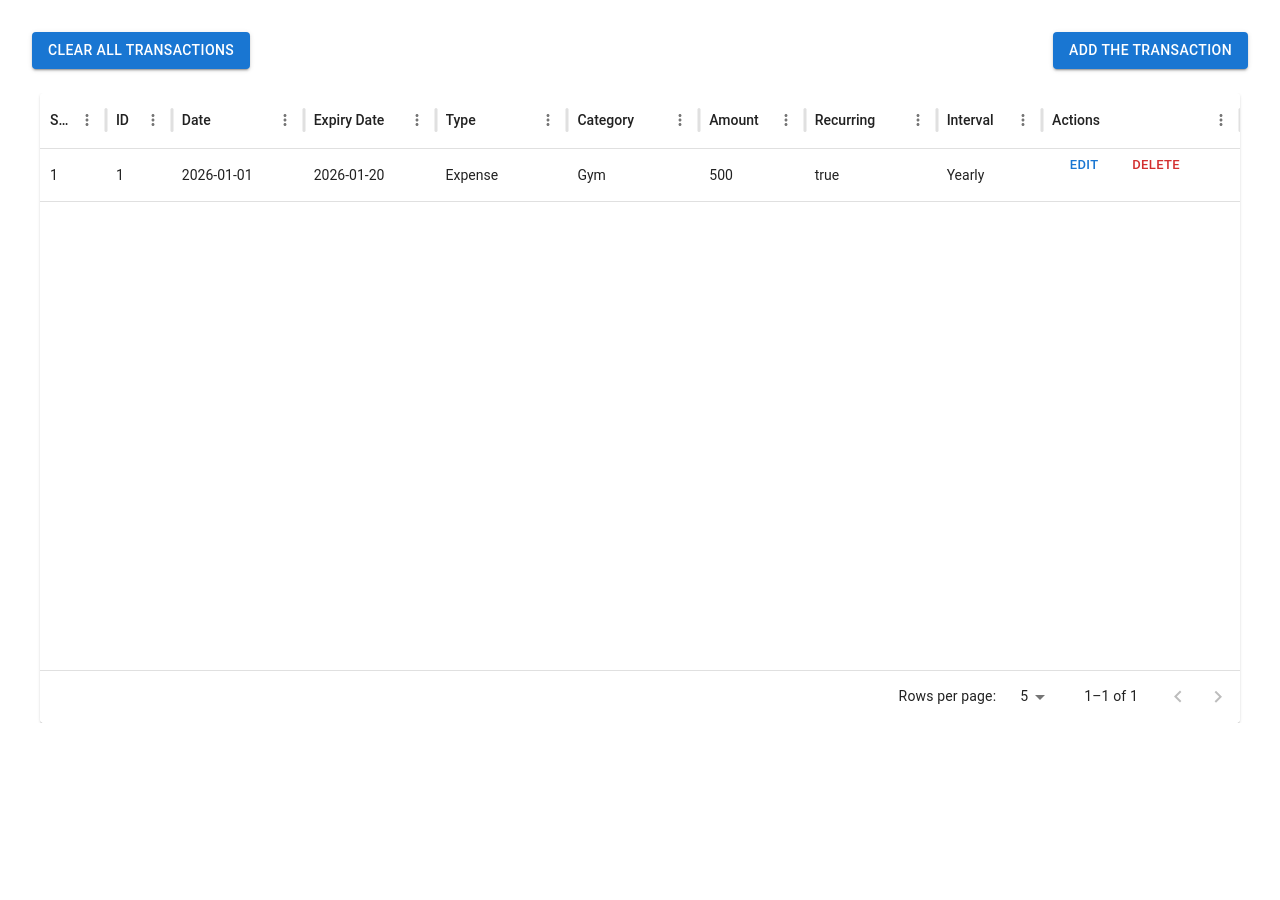
Test: Dashboard Component › clears all transactions when 'Clear all transactions' is clicked
Click the button "Clear all transactions" at (141, 50), box [32,32,250,68]
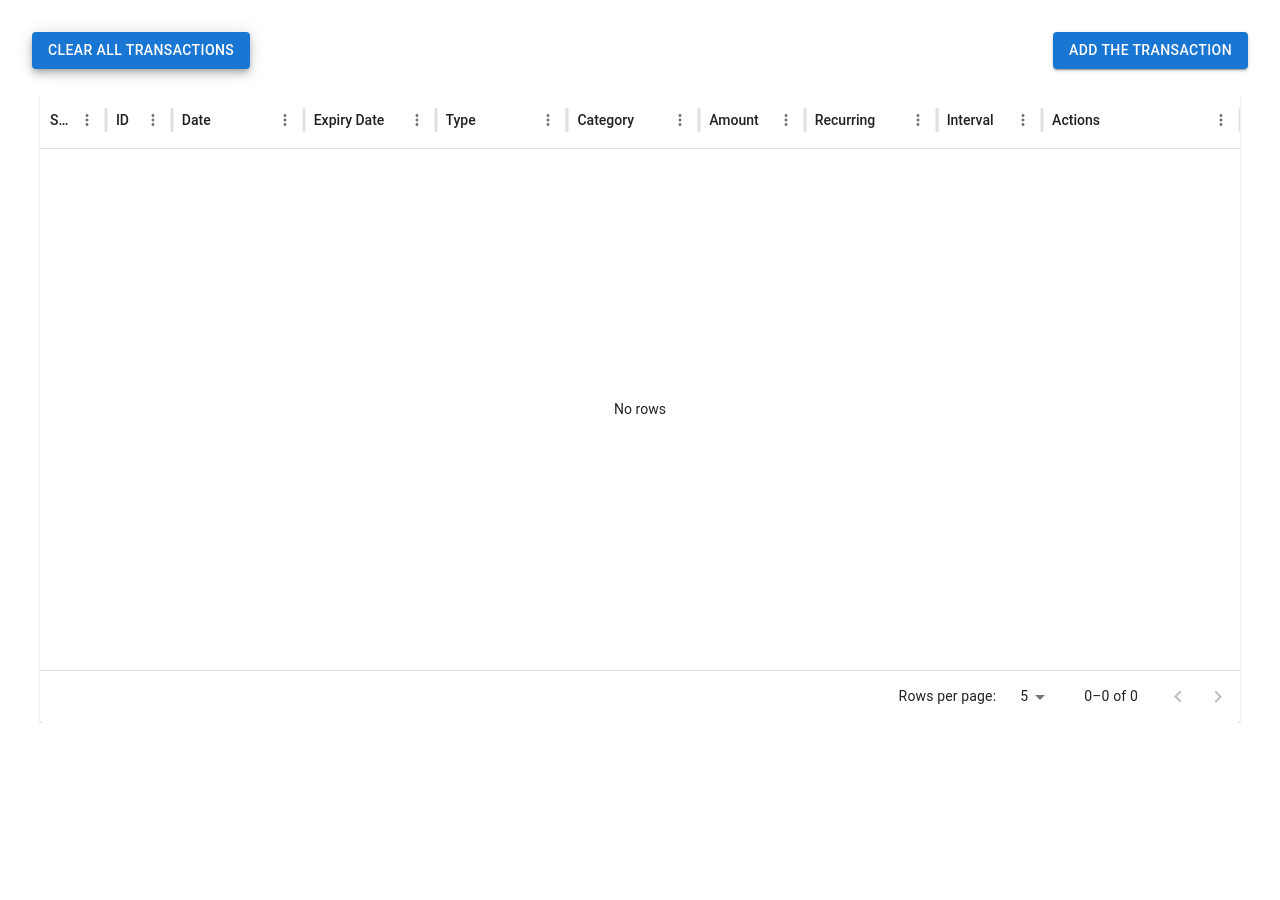
Expected: the text "Gym" is gone
